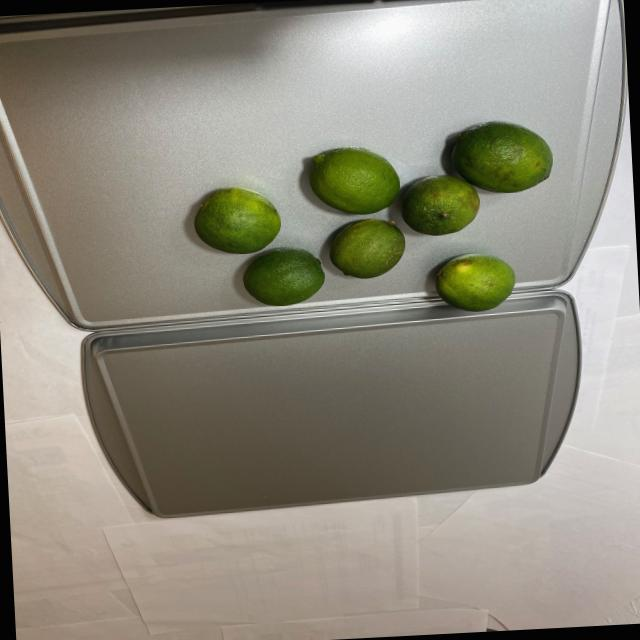lemon: (190, 122, 564, 326)
